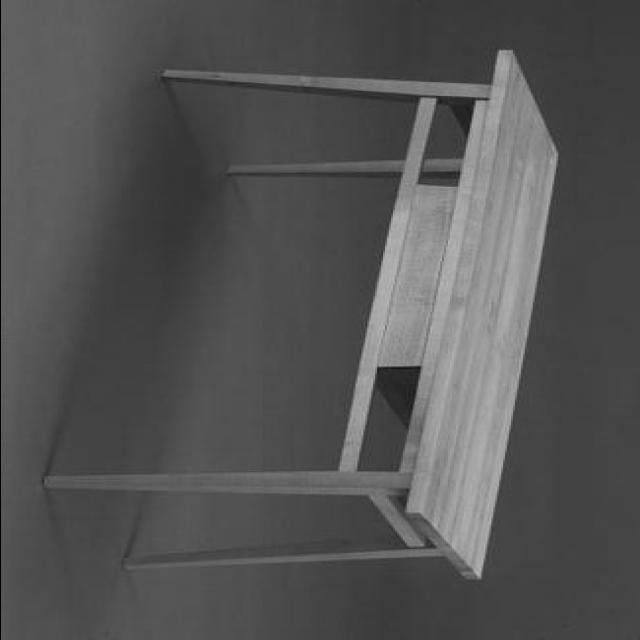table: (39, 46, 561, 581)
